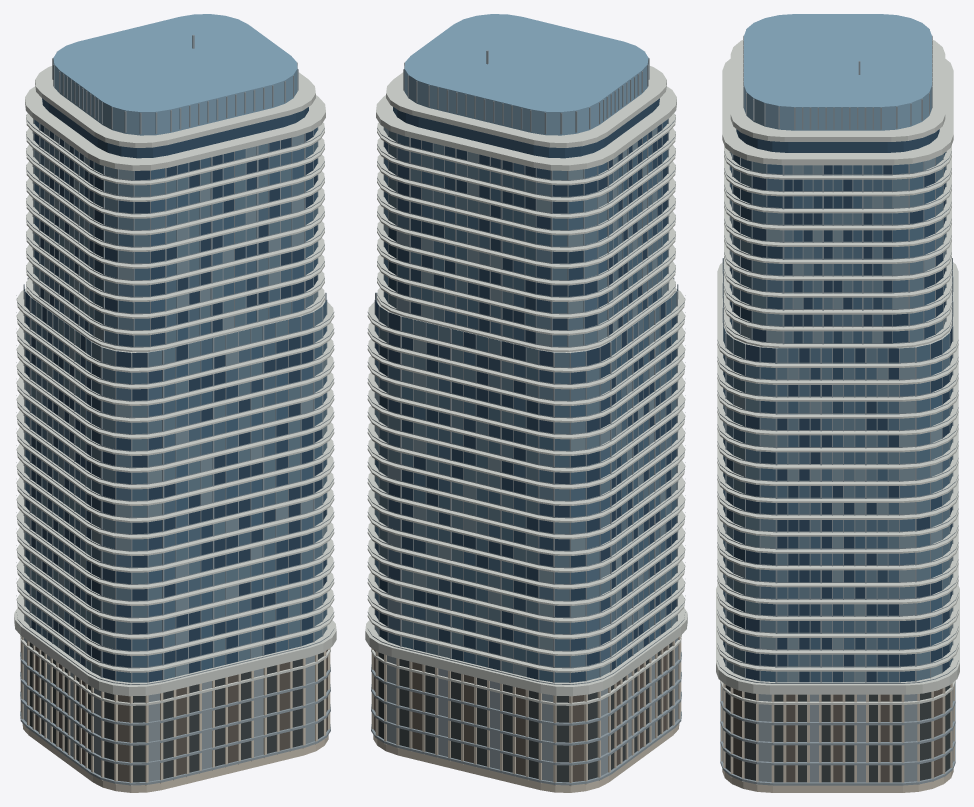
Rendered from blue-glass-tower-b.glb.
The picture shows the model from 3 angles, left to right: view 1: azimuth 30°, elevation 25°; view 2: azimuth 150°, elevation 25°; view 3: azimuth 270°, elevation 25°; orthographic projection.
Visible parts, largest first — view 1: Ivory slab edges (×2), Anodized aluminum (×2), Blue glazing 4, Blue glazing 2, Blue glazing 6, Pale blue rear cladding, Blue glazing 3, Pale limestone, Blue glazing 1, Smoked glazing 2, Blue glazing 5, Smoked glazing 4; view 2: Ivory slab edges (×2), Anodized aluminum (×2), Blue glazing 4, Blue glazing 2, Blue glazing 6, Pale blue rear cladding, Blue glazing 3, Pale limestone, Blue glazing 1, Smoked glazing 2, Blue glazing 5, Smoked glazing 4; view 3: Ivory slab edges (×2), Anodized aluminum (×2), Pale blue rear cladding, Blue glazing 4, Blue glazing 6, Blue glazing 2, Blue glazing 5, Blue glazing 1, Pale limestone, Smoked glazing 2, Blue glazing 3, Smoked glazing 4.
Boxes of the visible parts, x1,y1,x2,y2 form: Ivory slab edges (×2): (14, 66, 336, 705); Anodized aluminum (×2): (16, 35, 334, 785); Blue glazing 4: (25, 141, 326, 679); Blue glazing 2: (25, 137, 326, 682); Blue glazing 6: (24, 124, 326, 680); Pale blue rear cladding: (53, 14, 297, 135); Blue glazing 3: (25, 98, 326, 682); Pale limestone: (20, 636, 330, 792); Blue glazing 1: (25, 119, 326, 682); Smoked glazing 2: (29, 642, 323, 782); Blue glazing 5: (25, 127, 326, 676); Smoked glazing 4: (35, 646, 327, 781); Ivory slab edges (×2): (365, 66, 687, 705); Anodized aluminum (×2): (367, 50, 685, 785); Blue glazing 4: (375, 130, 677, 680); Blue glazing 2: (375, 144, 676, 682); Blue glazing 6: (375, 124, 676, 679); Pale blue rear cladding: (404, 14, 648, 135); Blue glazing 3: (375, 98, 676, 682); Pale limestone: (371, 636, 681, 792); Blue glazing 1: (375, 119, 676, 682); Smoked glazing 2: (378, 642, 672, 782); Blue glazing 5: (375, 127, 676, 676); Smoked glazing 4: (374, 646, 666, 781); Ivory slab edges (×2): (716, 40, 959, 704); Anodized aluminum (×2): (717, 29, 958, 785); Pale blue rear cladding: (744, 14, 931, 130); Blue glazing 4: (723, 154, 952, 682); Blue glazing 6: (723, 155, 952, 682); Blue glazing 2: (723, 165, 952, 682); Blue glazing 5: (723, 152, 952, 682); Blue glazing 1: (723, 152, 952, 682); Pale limestone: (721, 683, 954, 792); Smoked glazing 2: (725, 685, 950, 782); Blue glazing 3: (723, 129, 952, 682); Smoked glazing 4: (733, 688, 942, 782).
Bounding box in the file's own units: 3.56 × 9.6 × 3.08.
